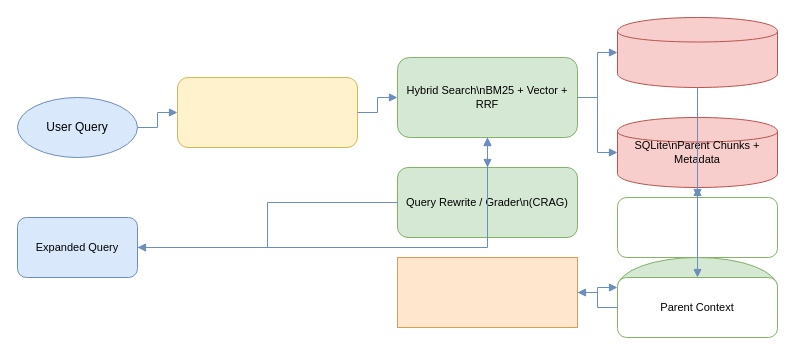
This 795x355 diagram has some shape labels left out. Each missing label, with the box of its shape:
Child Chunk Hits: (616, 196, 778, 258)
ChromaDB\nChild Chunk Vectors: (616, 16, 778, 88)
LLM Generator\n(Qwen2.5-coder): (396, 256, 578, 328)
Query Router\n(Agentic RAG): (176, 76, 358, 148)
